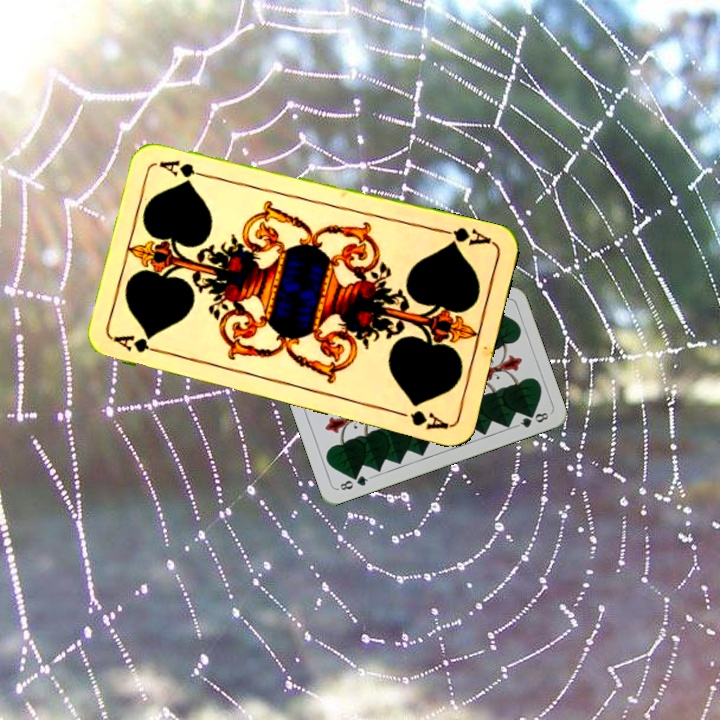G8: (334, 471, 373, 493)
GA: (436, 223, 495, 249), (110, 331, 168, 357)
